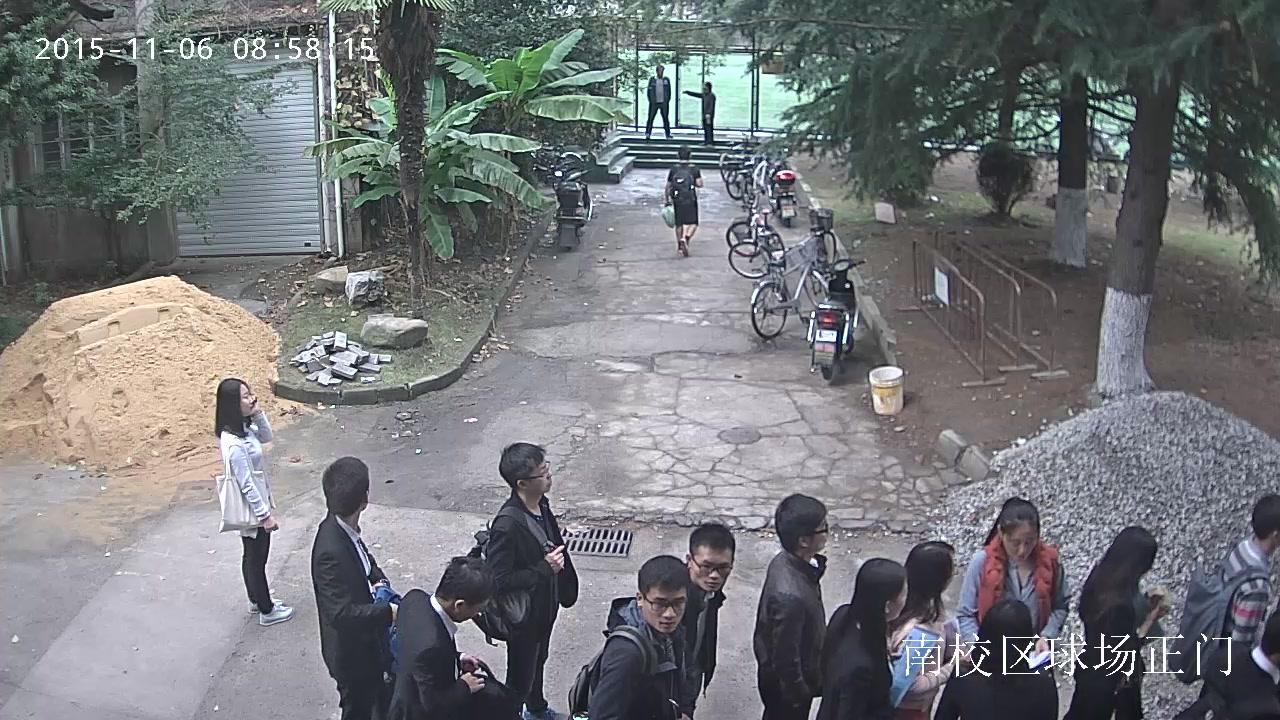face: (642, 586, 687, 632), (690, 545, 732, 591), (1003, 523, 1037, 560), (528, 458, 551, 492), (889, 577, 908, 618), (458, 600, 489, 622), (810, 519, 826, 550), (240, 384, 254, 416), (657, 67, 662, 76), (703, 83, 707, 93)
